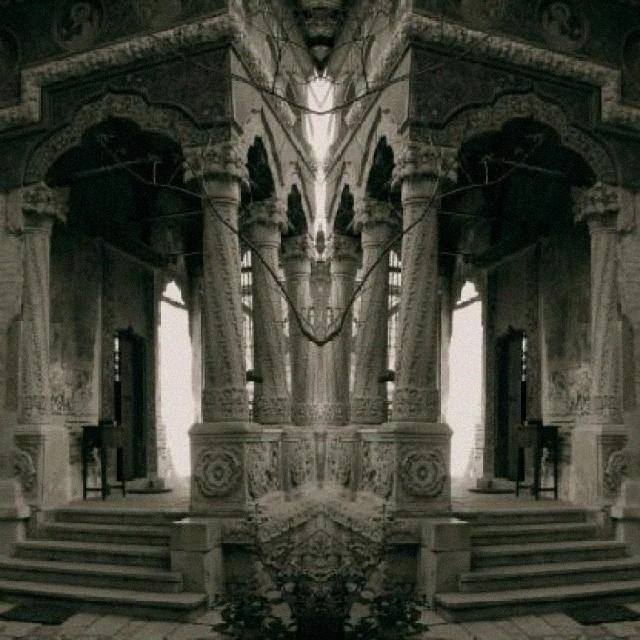stair: (0, 506, 211, 623), (432, 506, 640, 623)
